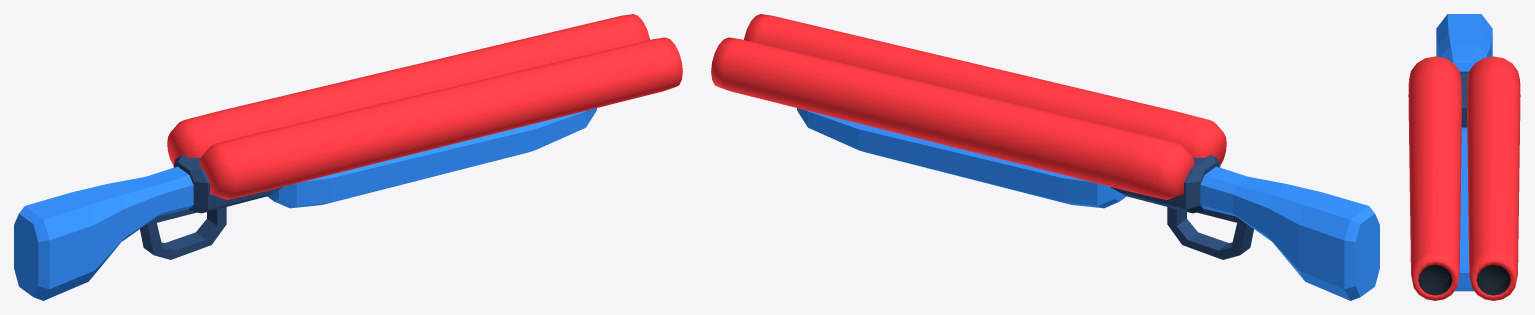
File: Shotgun01_RedBlue.fbx
The picture shows the model from 3 angles, left to right: view 1: azimuth 30°, elevation 25°; view 2: azimuth 150°, elevation 25°; view 3: azimuth 270°, elevation 25°; orthographic projection. The views are drawn at different scales.
Parts seen in each view (by area): view 1: Shotgun01_RedBlue; view 2: Shotgun01_RedBlue; view 3: Shotgun01_RedBlue.
Part boxes in pixels (x1,y1,x2,y2): Shotgun01_RedBlue: (14,14,682,300); Shotgun01_RedBlue: (711,14,1379,300); Shotgun01_RedBlue: (1408,14,1520,300).
Size of the model in its own units: 315 by 57 by 53.4.
